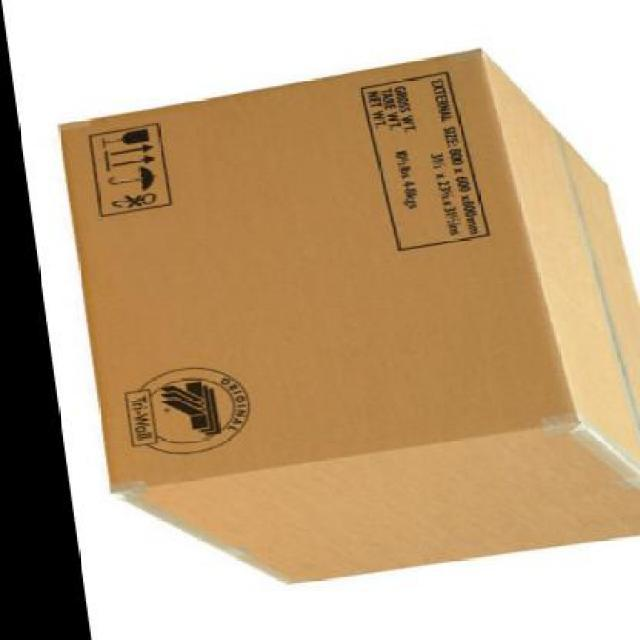box: (46, 44, 639, 584)
